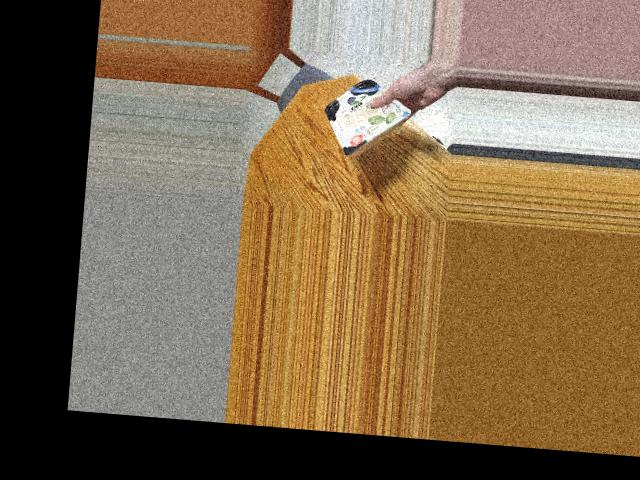cheese: (321, 84, 401, 154)
